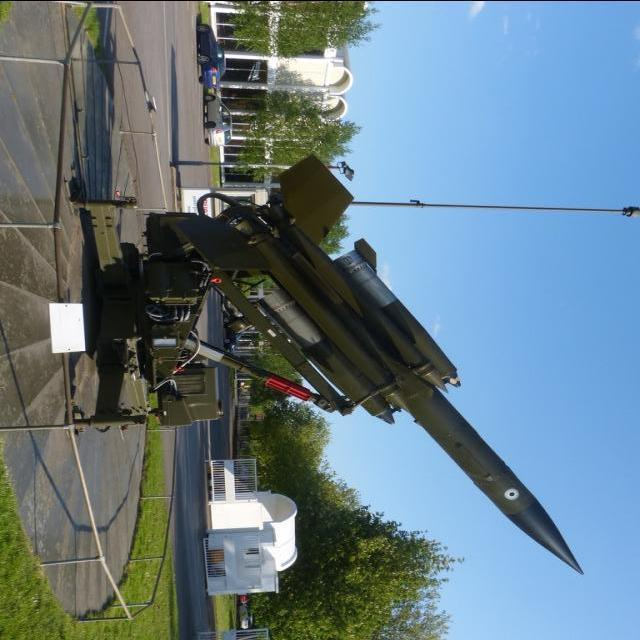missile: (157, 148, 586, 578)
